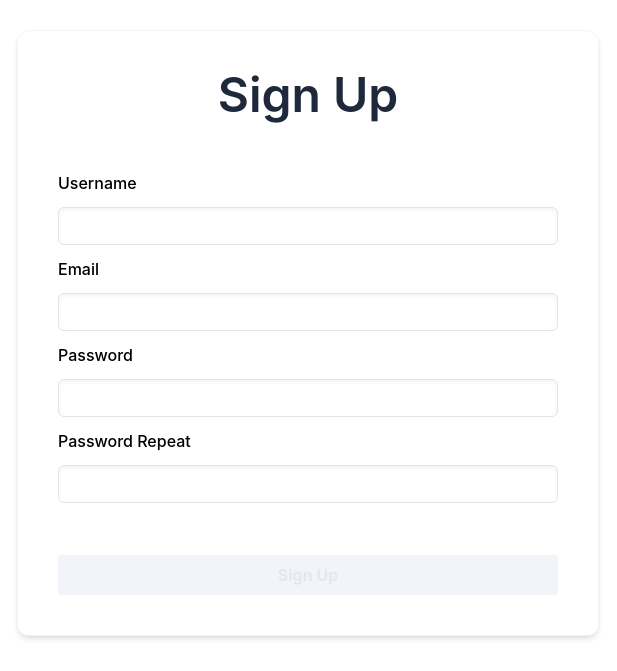
Test: Sign Up Page › interactions › displays Email cannot be null for email
Type "user1" into the field labelled "Username" at (308, 226), box [58, 207, 558, 245]
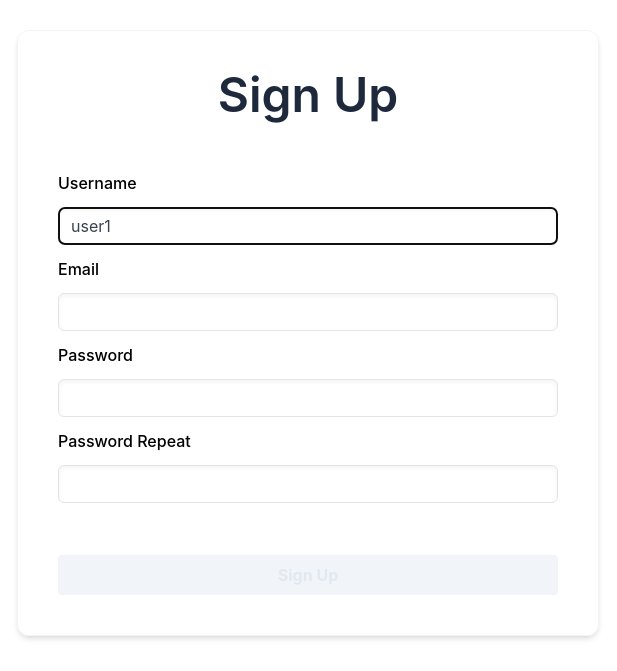
Type "224f@gmail.com" into the field labelled "Email" at (308, 312), box [58, 293, 558, 331]
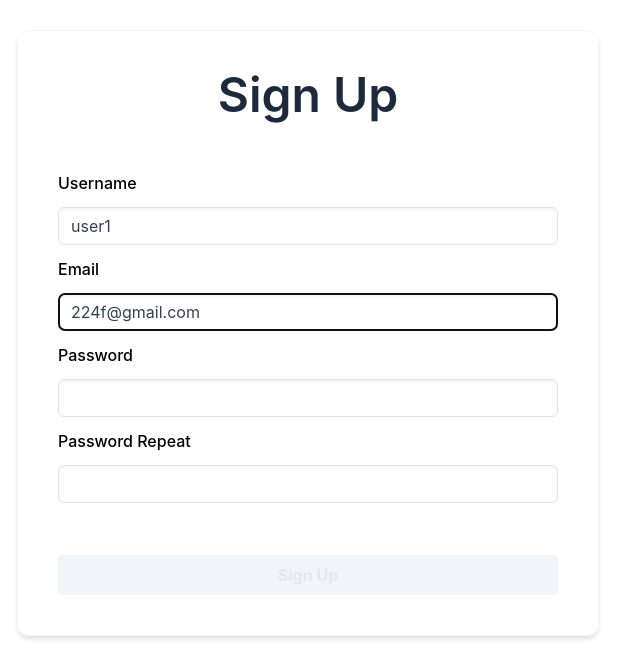
Type "Password" into the password field labelled "Password" at (308, 398), box [58, 379, 558, 417]
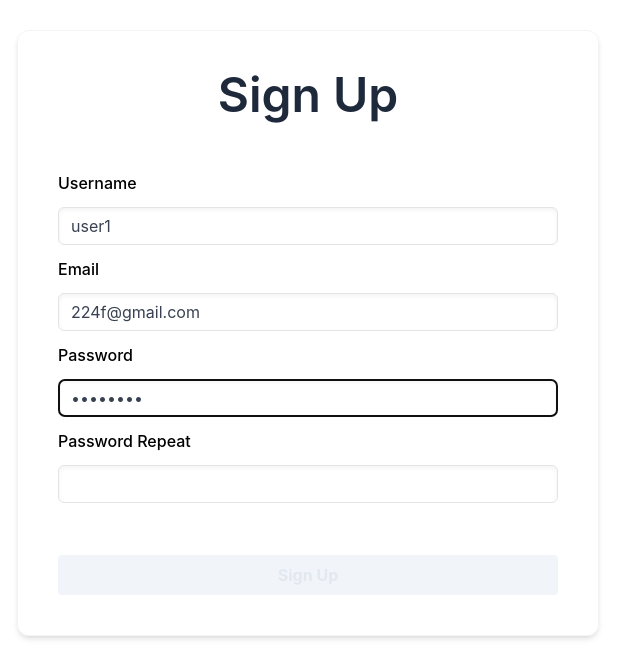
Type "Password" into the password field labelled "Password Repeat" at (308, 484), box [58, 465, 558, 503]
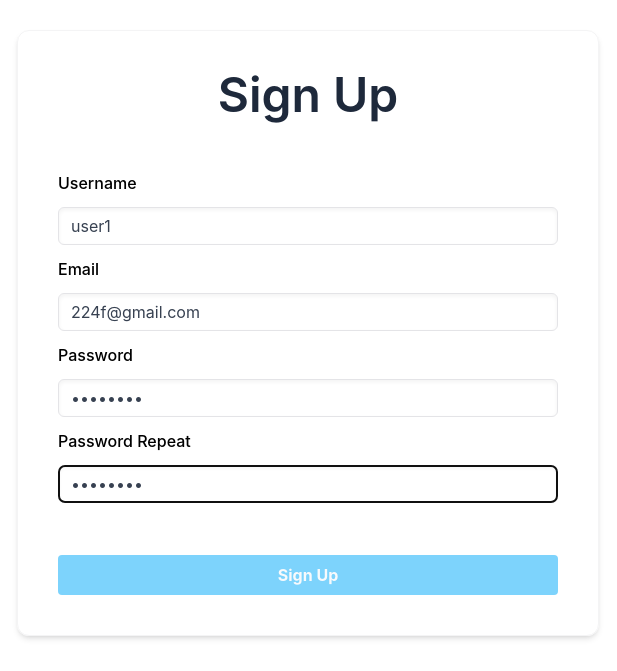
Click the button "Sign Up" at (308, 575), box [58, 555, 558, 595]
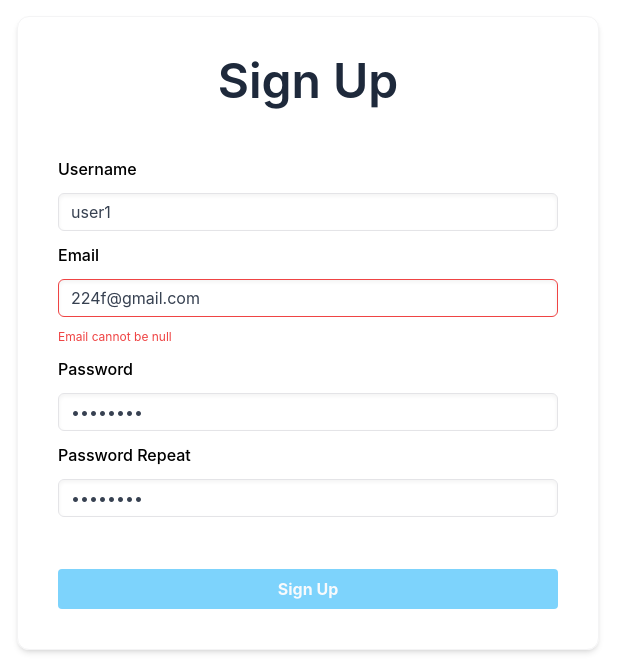
Now the text "Email cannot be null" is shown, box [58, 329, 172, 344]
